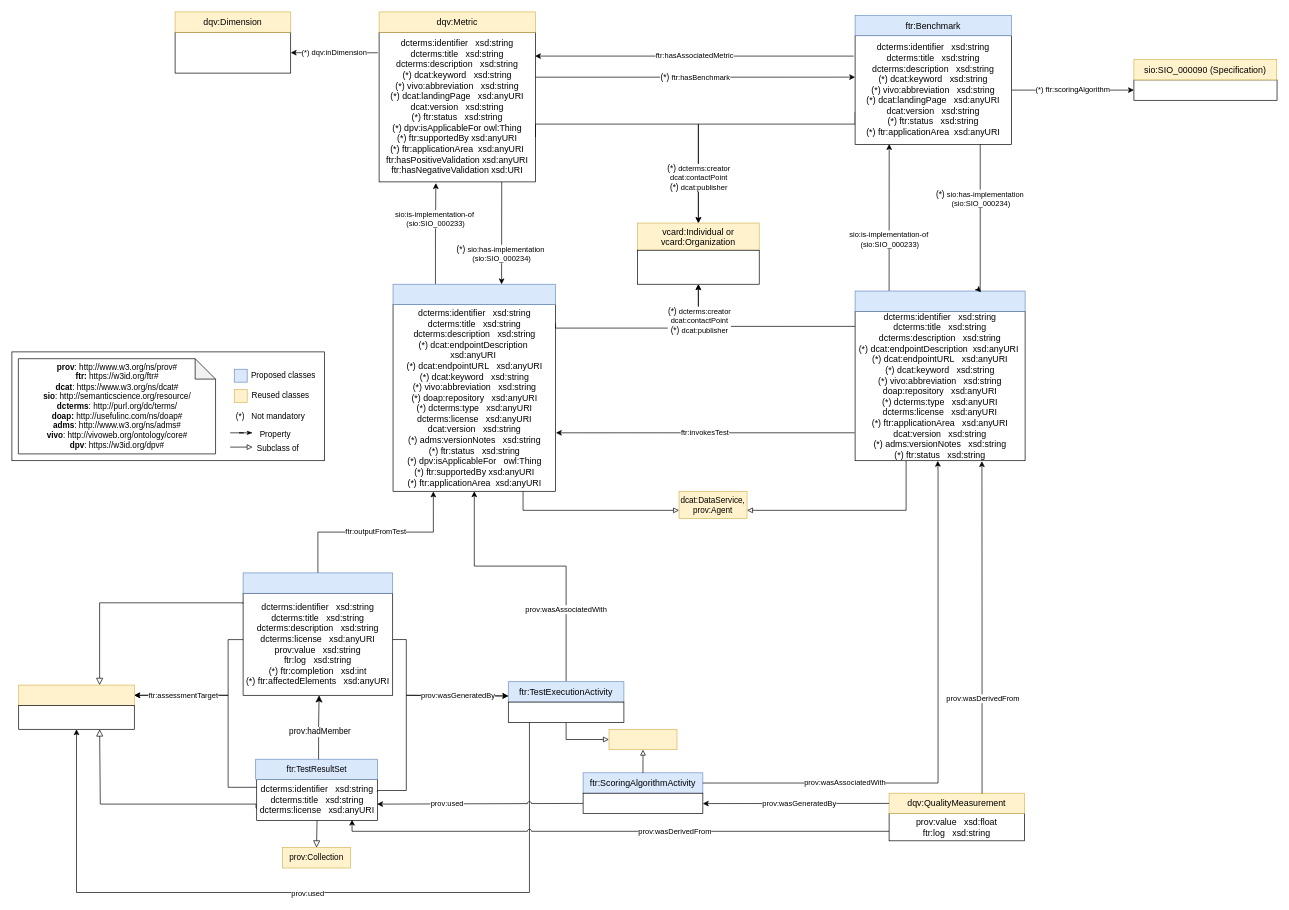
Some shapes in this 1289 by 910 pixel diagram are drawn without their labels. The centre of each missing label's shape, as x and y in pixels:
dcterms:description xsd:string: (x=1205, y=89)
dcterms:identifier dcterms:title dcterms:description: (x=232, y=52)
dcterms:identifier xsd:string: (x=76, y=717)
ftr:Algorithm: (x=939, y=300)
ftr:Test: (x=474, y=294)
ftr:TestResult: (x=317, y=582)
prov:Activity: (x=642, y=739)
prov:Entity: (x=76, y=695)
vcard:fn vcard:organization-name vcard:hasEmail: (x=698, y=267)
